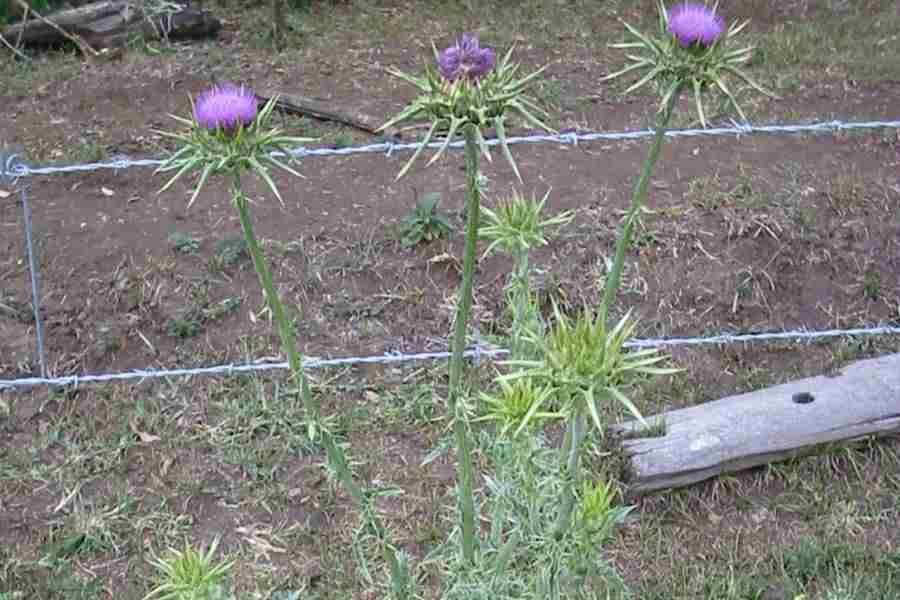thistle: (388, 35, 547, 182), (613, 5, 781, 124), (164, 82, 310, 202)
